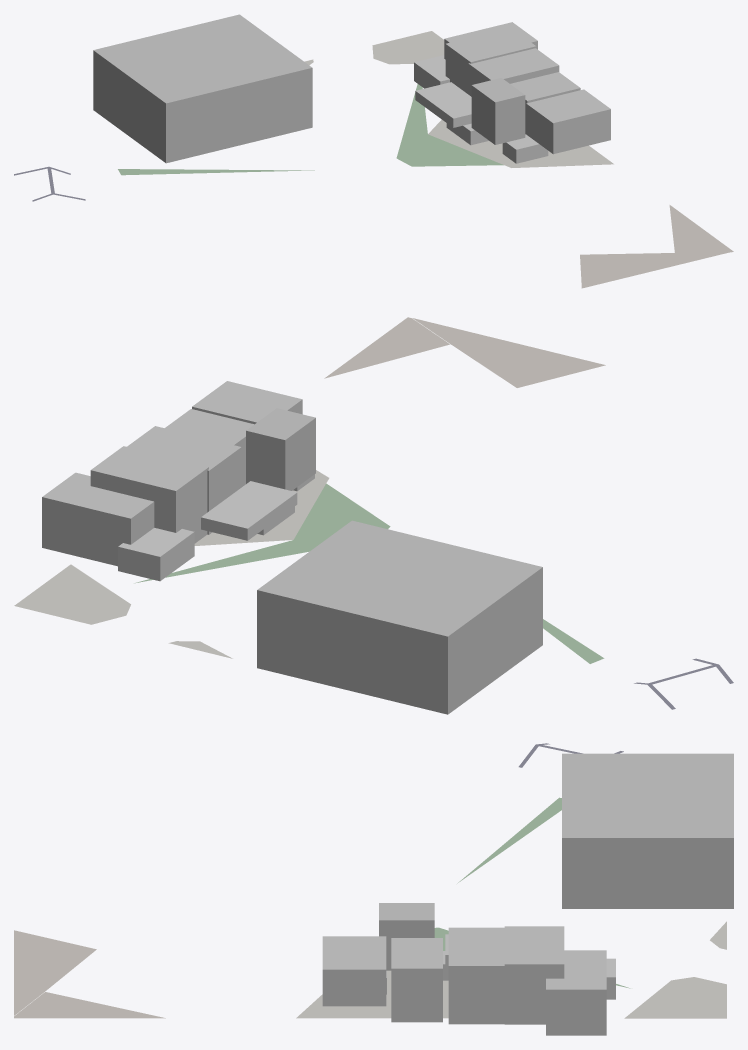
File: 102_92_mid.glb
3 views of the same model, one above another, from view 1: azimuth 30°, elevation 25°; view 2: azimuth 150°, elevation 25°; view 3: azimuth 270°, elevation 25° (orthographic). The views are drawn at different scales.
Bounding box in the file's own units: 483 × 55.28 × 505.
